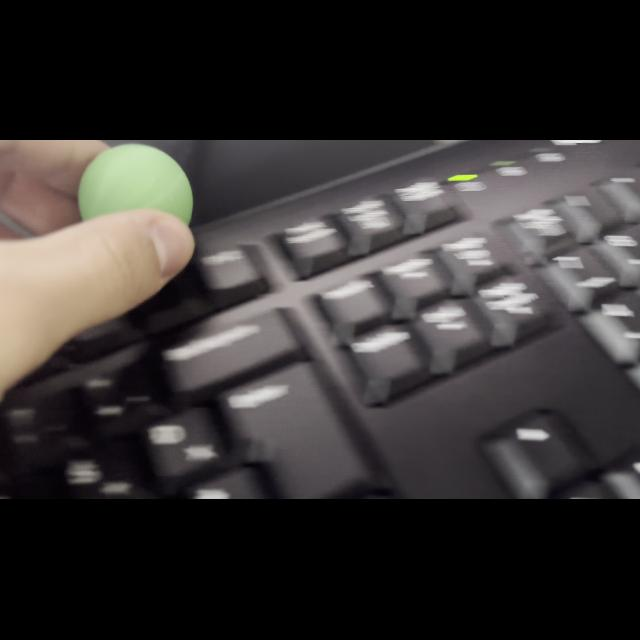objects: (75, 141, 197, 225)
